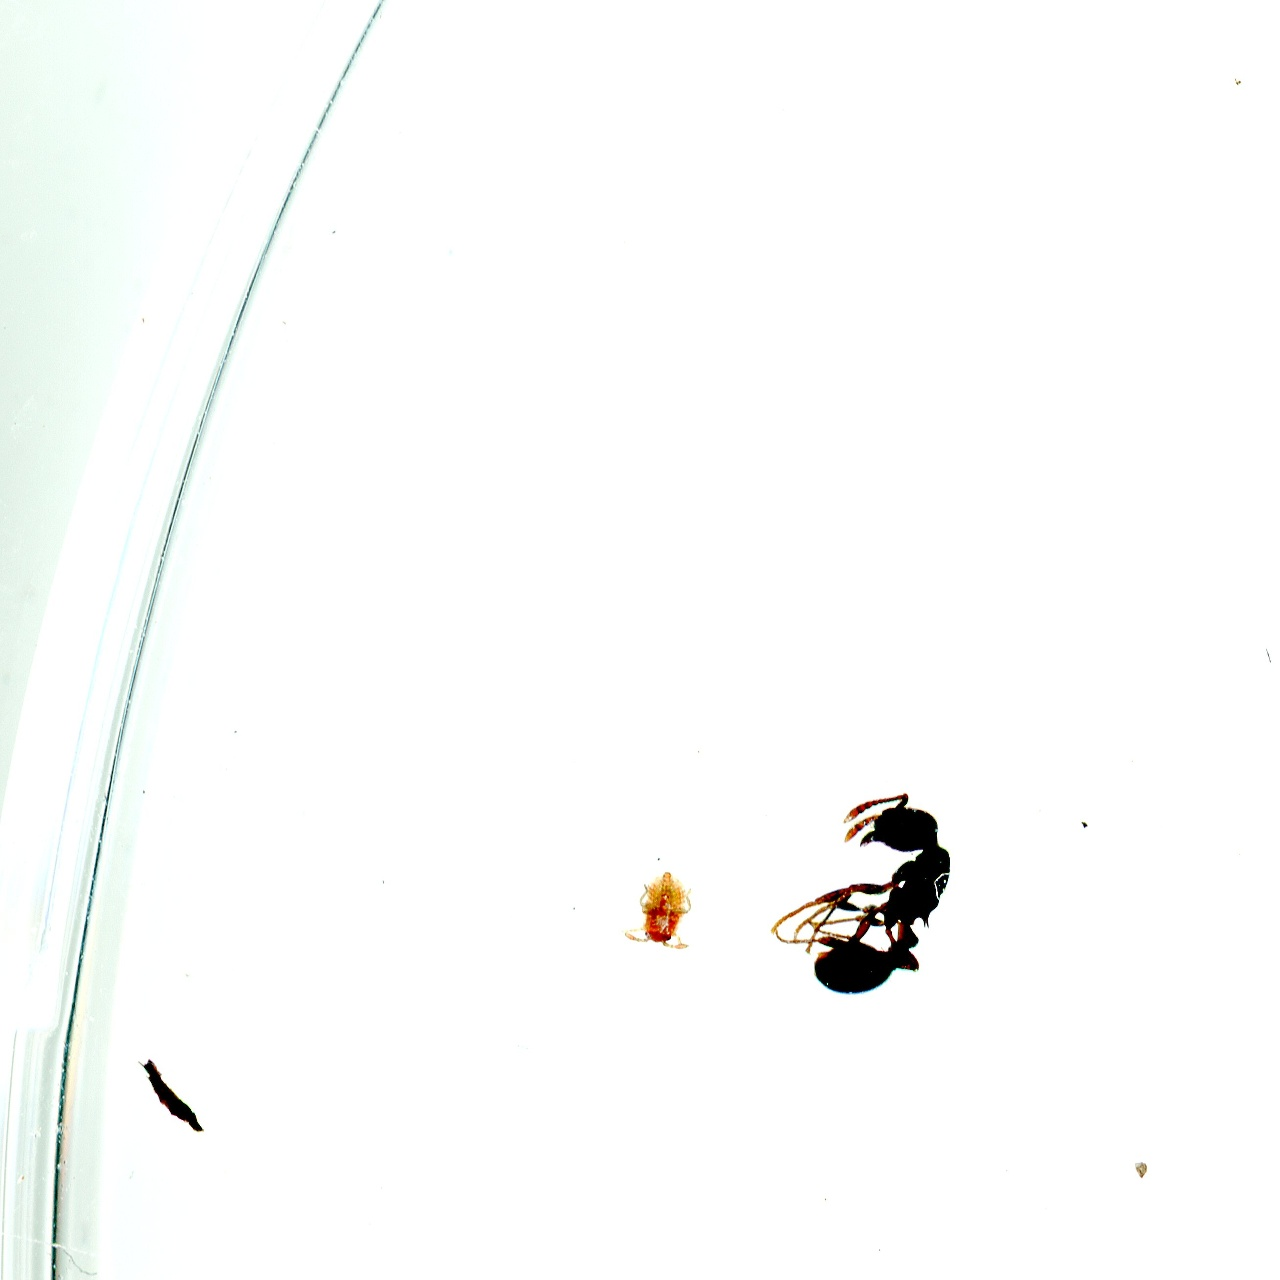arthropod: (762, 777, 959, 1009), (621, 871, 695, 952)
